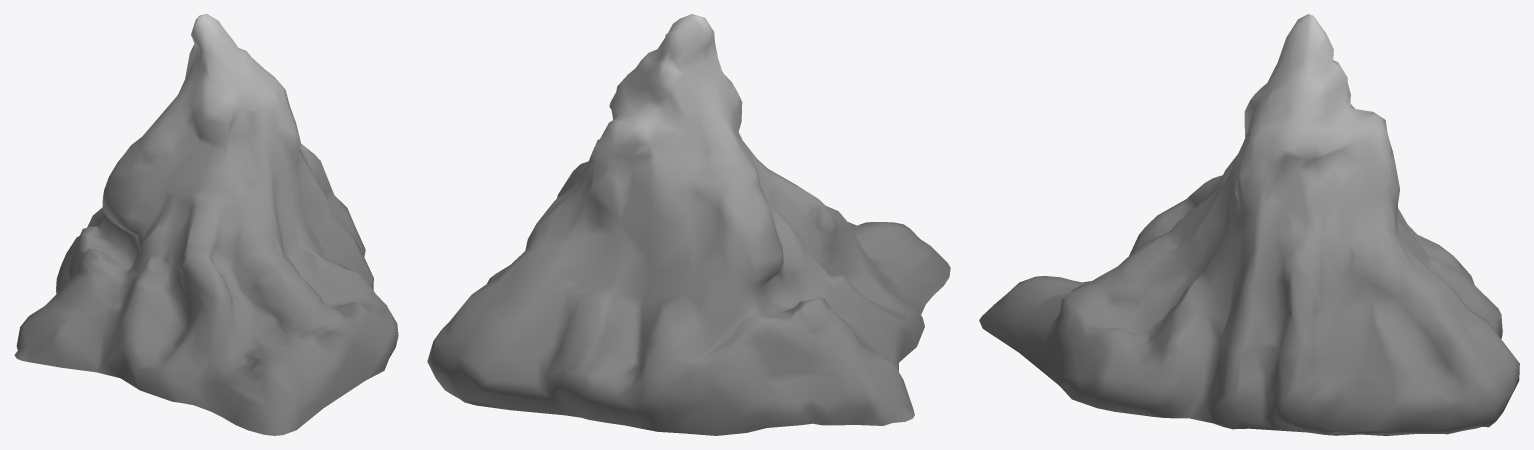
The model's file is Mountain_10.glb.
The picture shows the model from 3 angles, left to right: view 1: azimuth 30°, elevation 25°; view 2: azimuth 150°, elevation 25°; view 3: azimuth 270°, elevation 25°; orthographic projection. The views are drawn at different scales.
Visible parts, largest first — view 1: Mountain_10; view 2: Mountain_10; view 3: Mountain_10.
Part boxes in pixels (x1,y1,x2,y2): Mountain_10: (14, 14, 398, 435); Mountain_10: (427, 14, 950, 435); Mountain_10: (979, 14, 1519, 435).
Bounding box in the file's own units: 15.62 × 12.88 × 18.53.
Materials: 1 (1 with a texture image).
